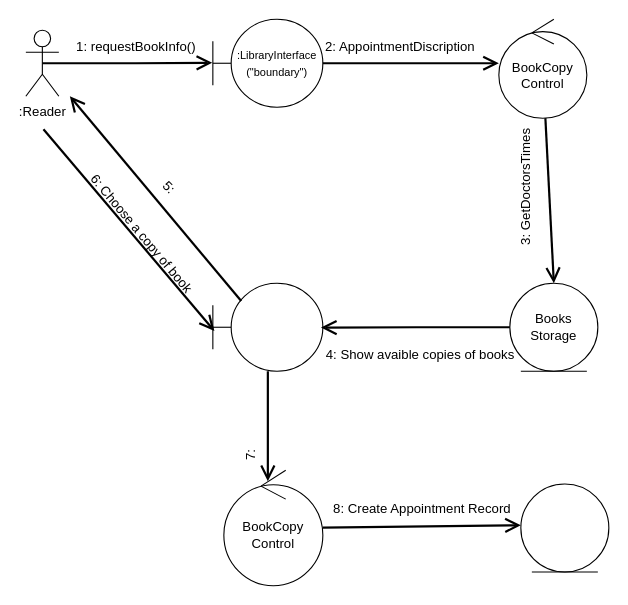
Image size: 628x605. Some labels were removed from this diagram. Here are the shapes that lost their labels. From the top down, the centre of each, then its label:
At pixel 267 326: ":StorageSearch page".
At pixel 564 527: "Search results".
